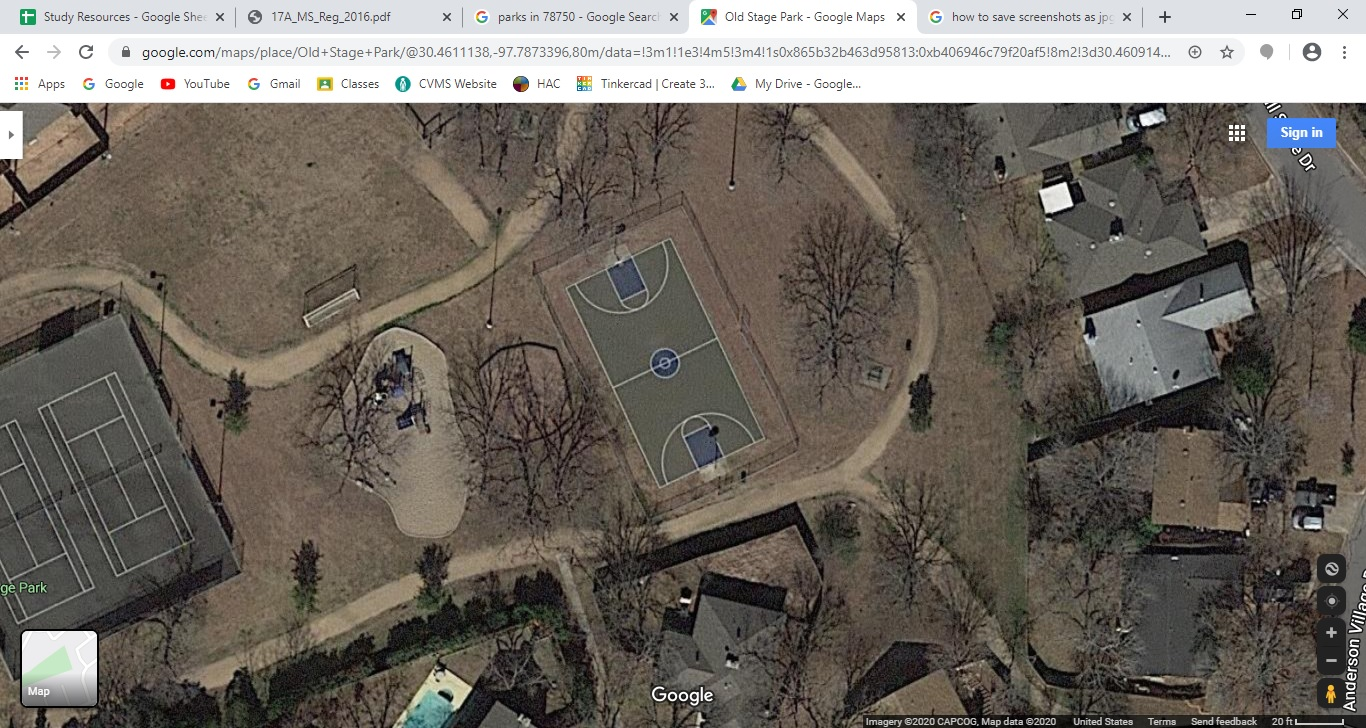basketball: (527, 237, 784, 484)
tennis: (28, 381, 202, 582)
